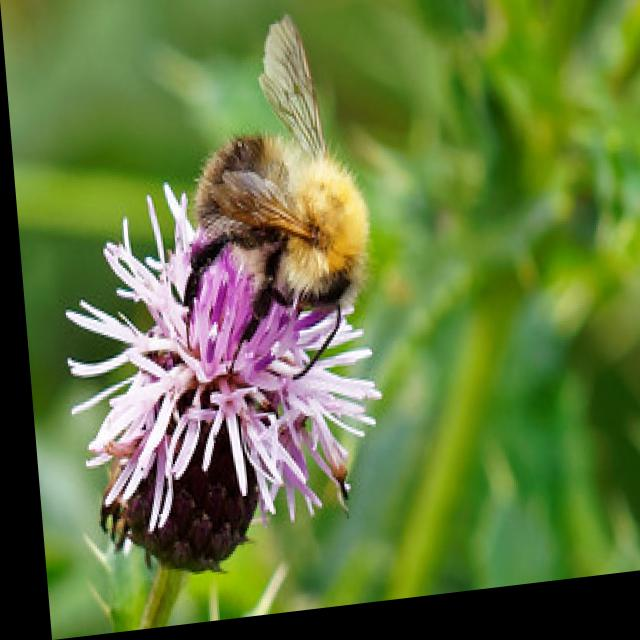Abeille: (151, 0, 401, 401)
